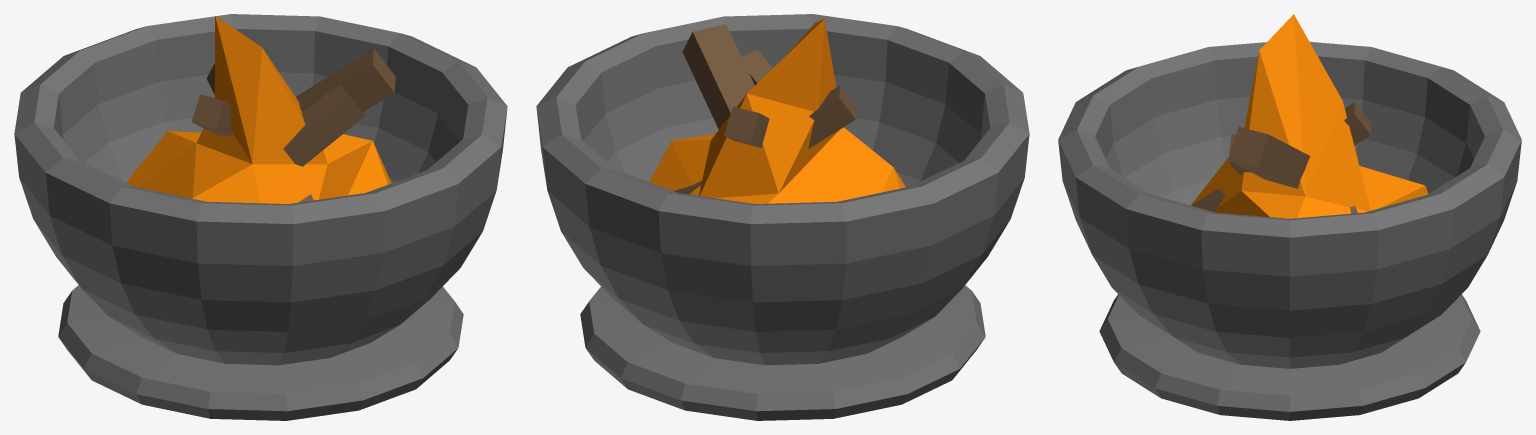
The model's file is Fire_01.fbx.
The picture shows the model from 3 angles, left to right: view 1: azimuth 30°, elevation 25°; view 2: azimuth 150°, elevation 25°; view 3: azimuth 270°, elevation 25°; orthographic projection. The views are drawn at different scales.
Parts seen in each view (by area): view 1: Fire_01; view 2: Fire_01; view 3: Fire_01.
Boxes of the visible parts, left/top/right/bottom form: Fire_01: left=14, top=14, right=507, bottom=420; Fire_01: left=536, top=14, right=1029, bottom=420; Fire_01: left=1058, top=14, right=1521, bottom=420.
Size of the model in its own units: 1.05 by 0.7772 by 1.05.
